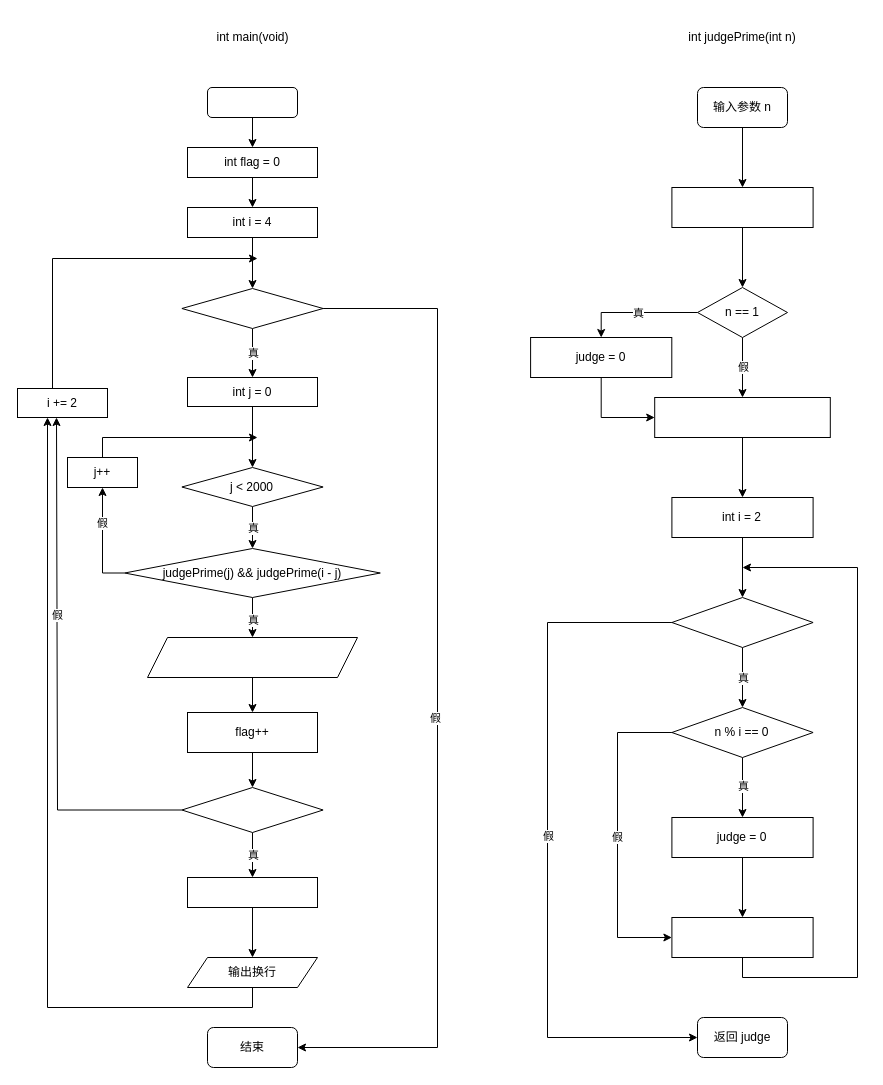
Some shapes in this 883 by 1085 pixel diagram are drawn without their labels. Here are the shapes that lost their labels. From the top down, the centre of each, then its label:
At pixel 252 102: "开始".
At pixel 742 207: "int judge = 1".
At pixel 252 308: "i <= 2000".
At pixel 742 417: "int k = (int) sqrt(n)".
At pixel 742 622: "judge && i <= k".
At pixel 252 657: "输出 i = j + i - j".
At pixel 252 809: "flag >= 4".
At pixel 252 892: "flag = 0".
At pixel 742 937: "i++".
